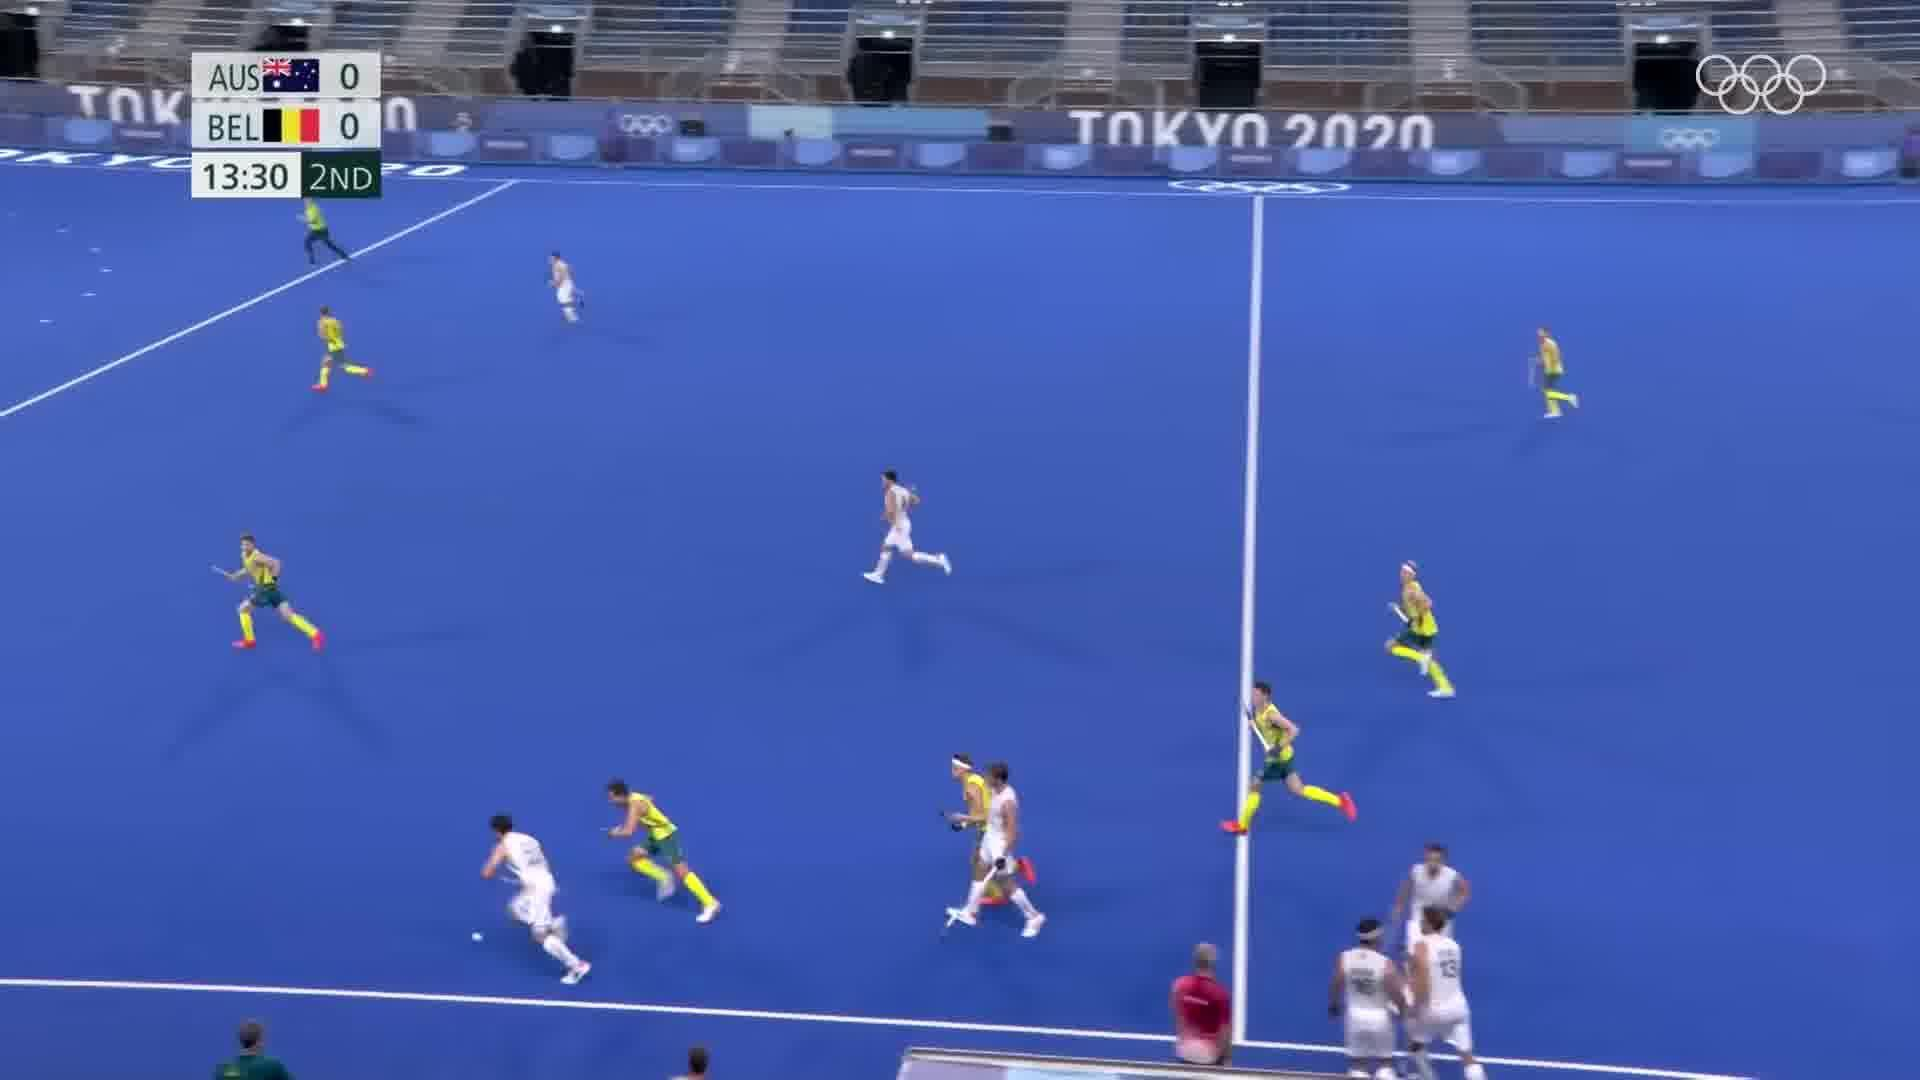ball: (465, 926, 495, 949)
